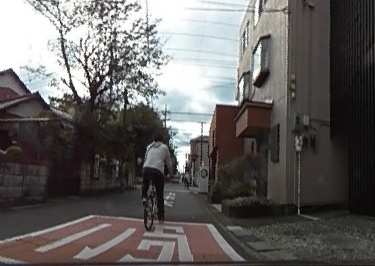person: (140, 131, 170, 228)
